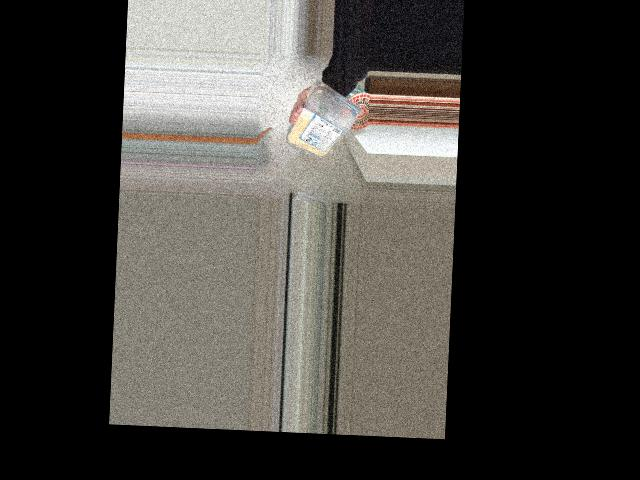cheese: (290, 97, 365, 161)
